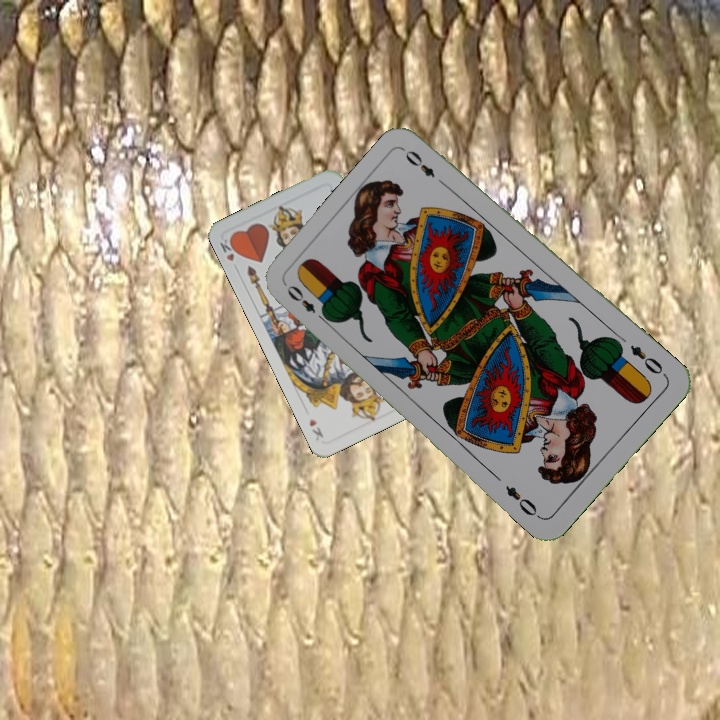EO: (282, 281, 331, 326), (626, 341, 669, 380)
HK: (216, 233, 242, 273)
